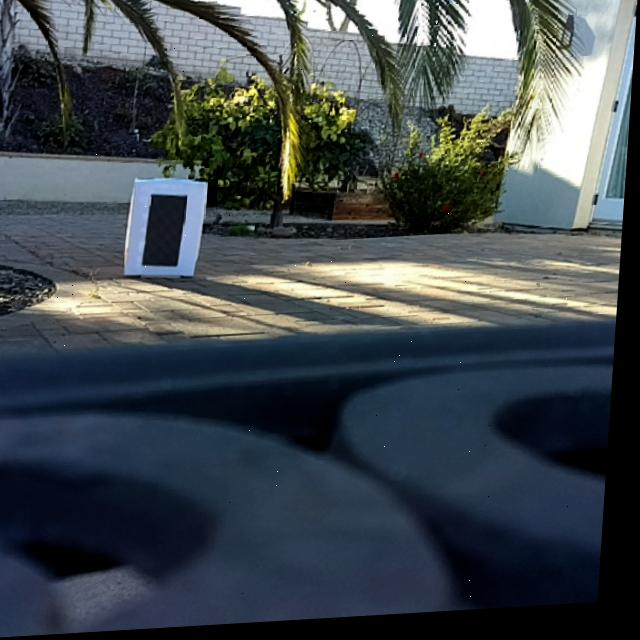led: (147, 195, 189, 270)
